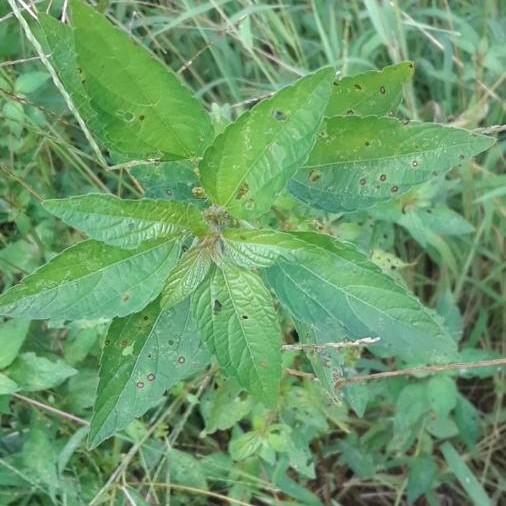obstacle: (38, 46, 401, 400)
